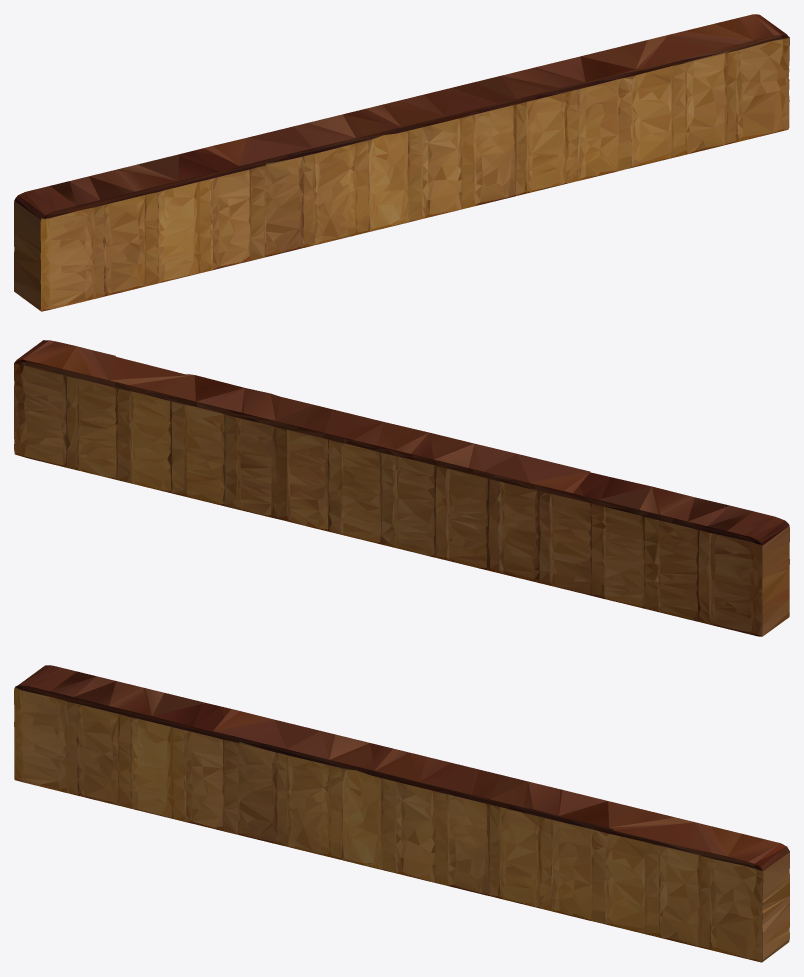
File: wall_classic.glb
3 views of the same model, one above another, from view 1: azimuth 30°, elevation 25°; view 2: azimuth 150°, elevation 25°; view 3: azimuth 330°, elevation 25° (orthographic).
Visible parts, largest first — view 1: geometry_0; view 2: geometry_0; view 3: geometry_0.
Boxes of the visible parts, left/top/right/bottom form: geometry_0: left=14, top=14, right=789, bottom=311; geometry_0: left=14, top=340, right=789, bottom=636; geometry_0: left=14, top=665, right=789, bottom=962.
Size of the model in its own units: 0.096 by 0.012 by 0.006.
1 material, 1 textured.
